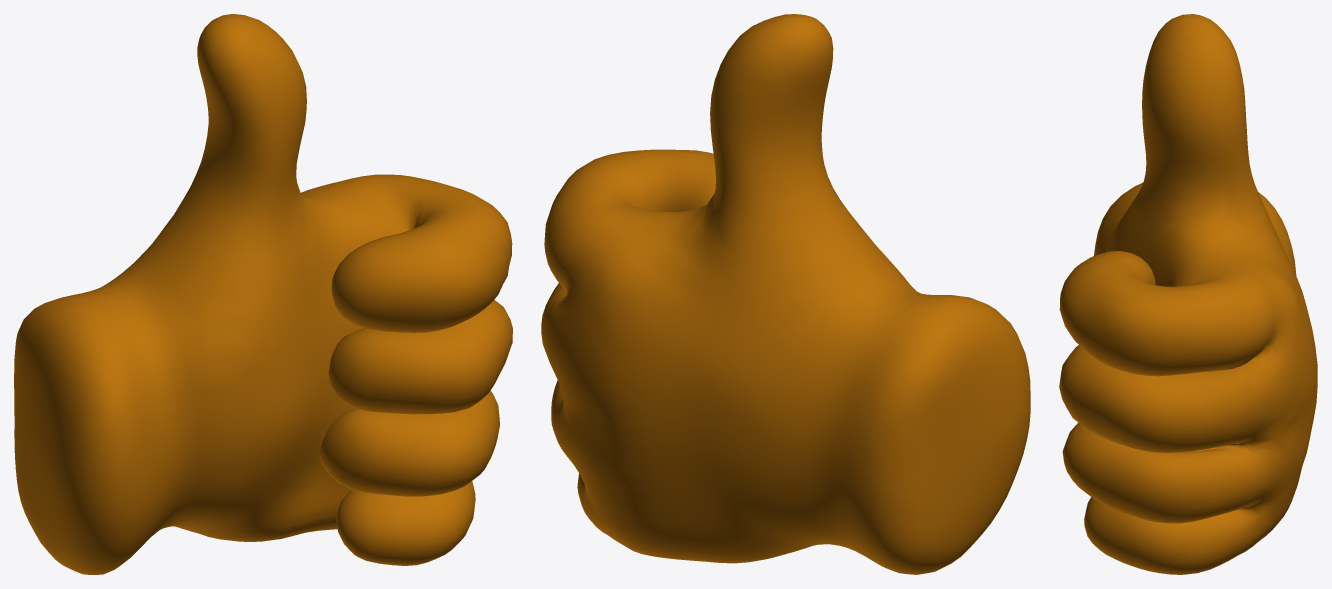
The model's file is thumbs UP.FBX.
3 renders of one model, left to right at view 1: azimuth 30°, elevation 25°; view 2: azimuth 150°, elevation 25°; view 3: azimuth 270°, elevation 25°, orthographic. The views are drawn at different scales.
Parts seen in each view (by area): view 1: Group1875; view 2: Group1875; view 3: Group1875.
Part boxes in pixels (x1,y1,x2,y2): Group1875: (14,14,512,574); Group1875: (541,14,1030,574); Group1875: (1059,14,1317,574).
Bounding box in the file's own units: 13.43 × 15.76 × 7.71.
